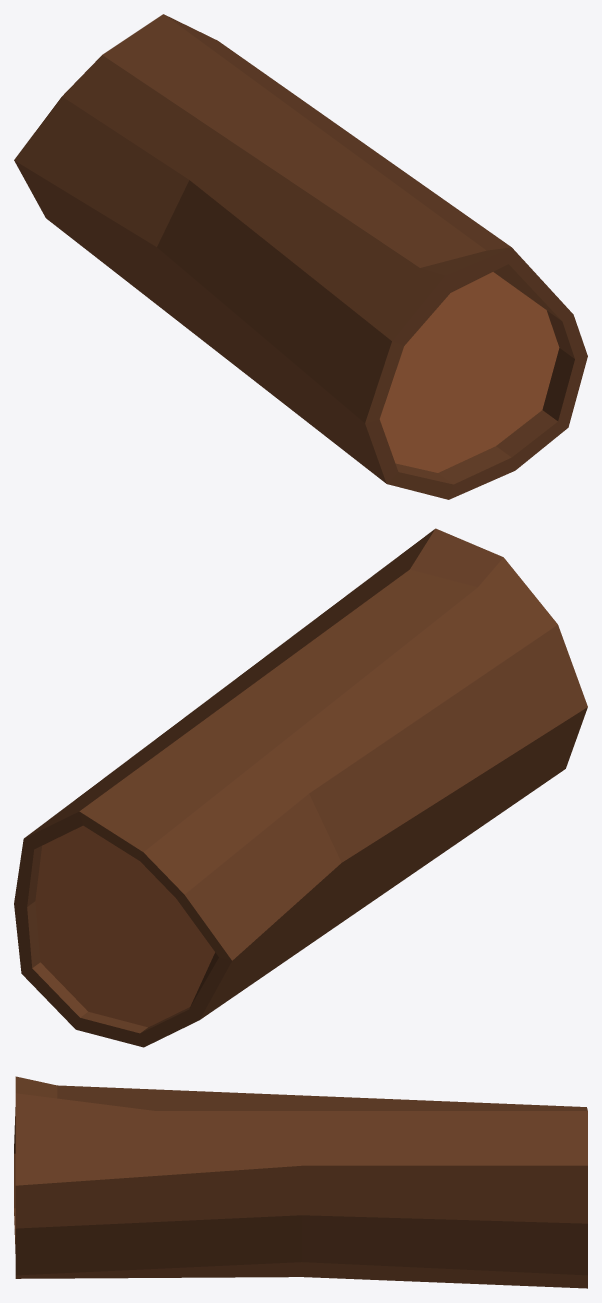
The model's file is woodlog02.obj.
3 views of the same model, one above another, from view 1: azimuth 30°, elevation 25°; view 2: azimuth 150°, elevation 25°; view 3: azimuth 270°, elevation 25° (orthographic). The views are drawn at different scales.
Parts seen in each view (by area): view 1: Cylinder; view 2: Cylinder; view 3: Cylinder.
Boxes of the visible parts, bbox=[...] form: Cylinder: bbox=[14, 14, 587, 499]; Cylinder: bbox=[14, 528, 587, 1047]; Cylinder: bbox=[14, 1076, 587, 1288].
Size of the model in its own units: 0.1903 by 0.1913 by 0.5107.
